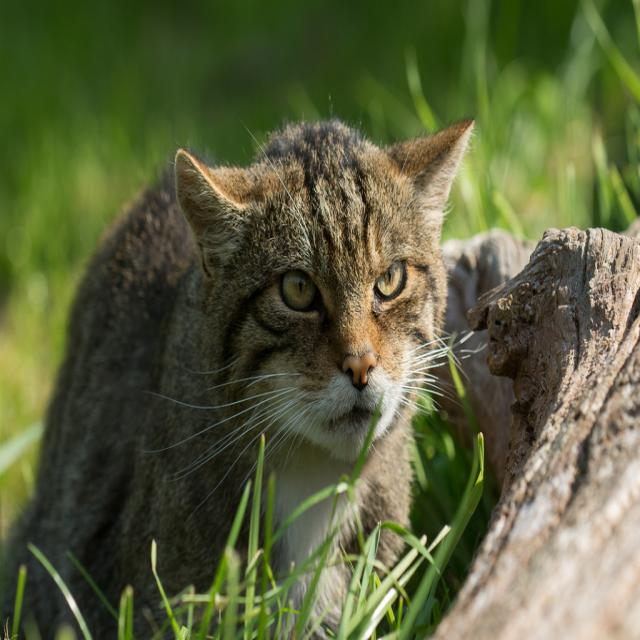Cat: (0, 114, 476, 638)
